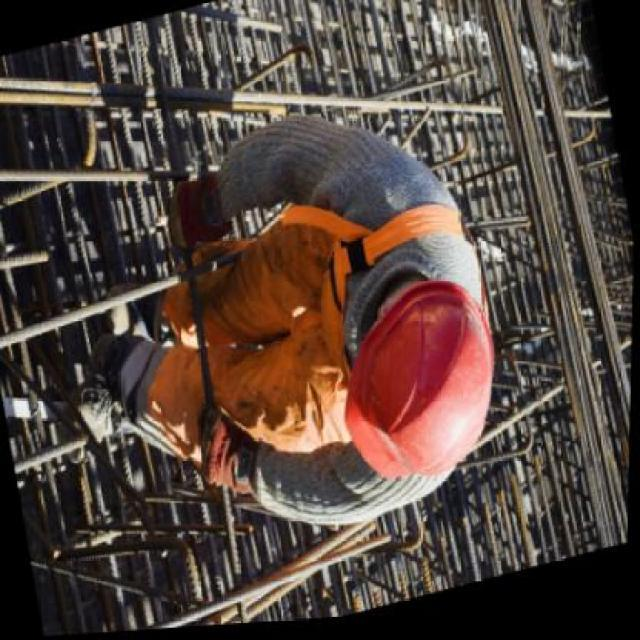helmet: (313, 263, 514, 509)
